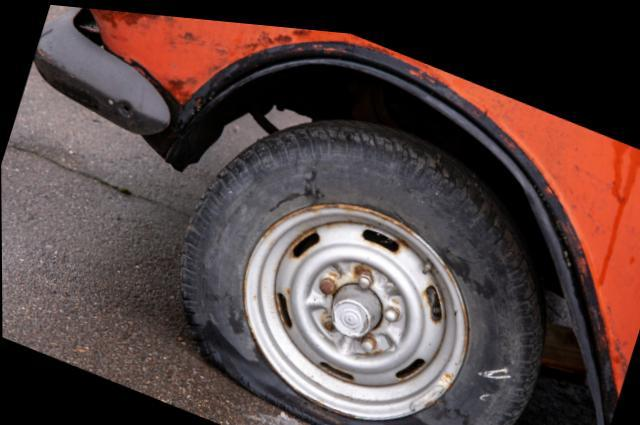tire flat: (178, 113, 545, 425)
